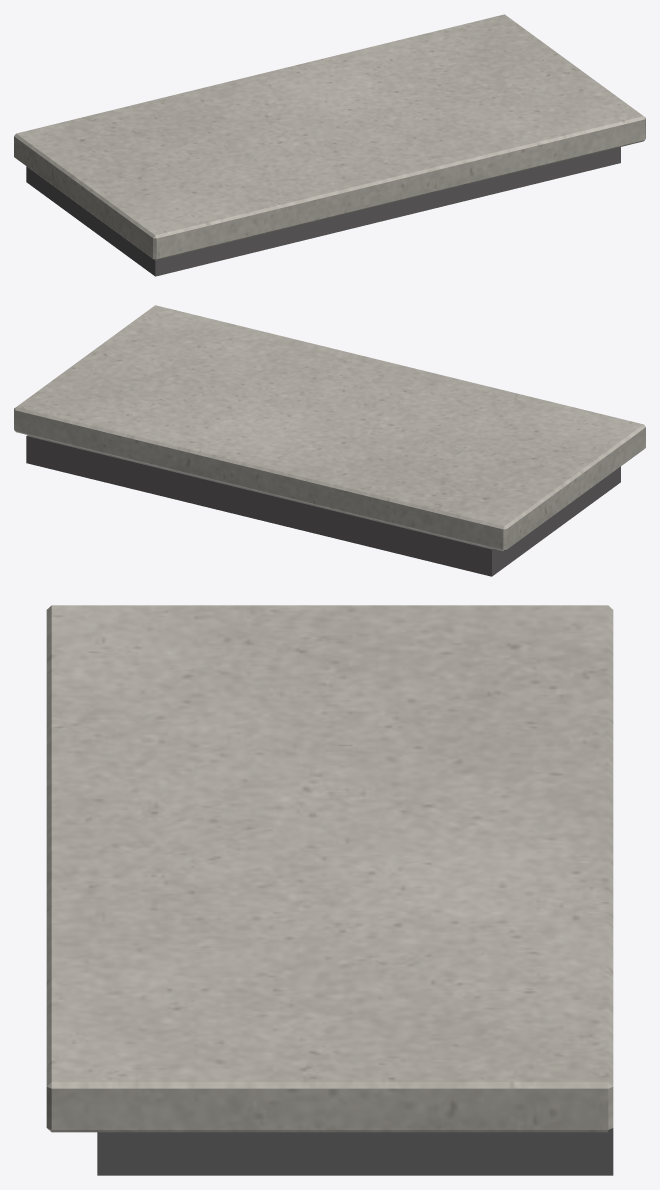
File: step_pad.glb
The picture shows the model from 3 angles, top to bottom: view 1: azimuth 30°, elevation 25°; view 2: azimuth 150°, elevation 25°; view 3: azimuth 270°, elevation 25°; orthographic projection. The views are drawn at different scales.
Parts seen in each view (by area): view 1: step_pad_concrete, step_pad_dark; view 2: step_pad_concrete, step_pad_dark; view 3: step_pad_concrete, step_pad_dark.
Boxes of the visible parts, box(x1,y1,x2,y2) form: step_pad_concrete: box(14, 14, 645, 260); step_pad_dark: box(26, 147, 620, 276); step_pad_concrete: box(14, 305, 645, 551); step_pad_dark: box(26, 435, 620, 576); step_pad_concrete: box(46, 605, 613, 1132); step_pad_dark: box(97, 1128, 613, 1175).
Bounding box in the file's own units: 1.8 × 0.183 × 0.896.
2 materials, 1 textured.
